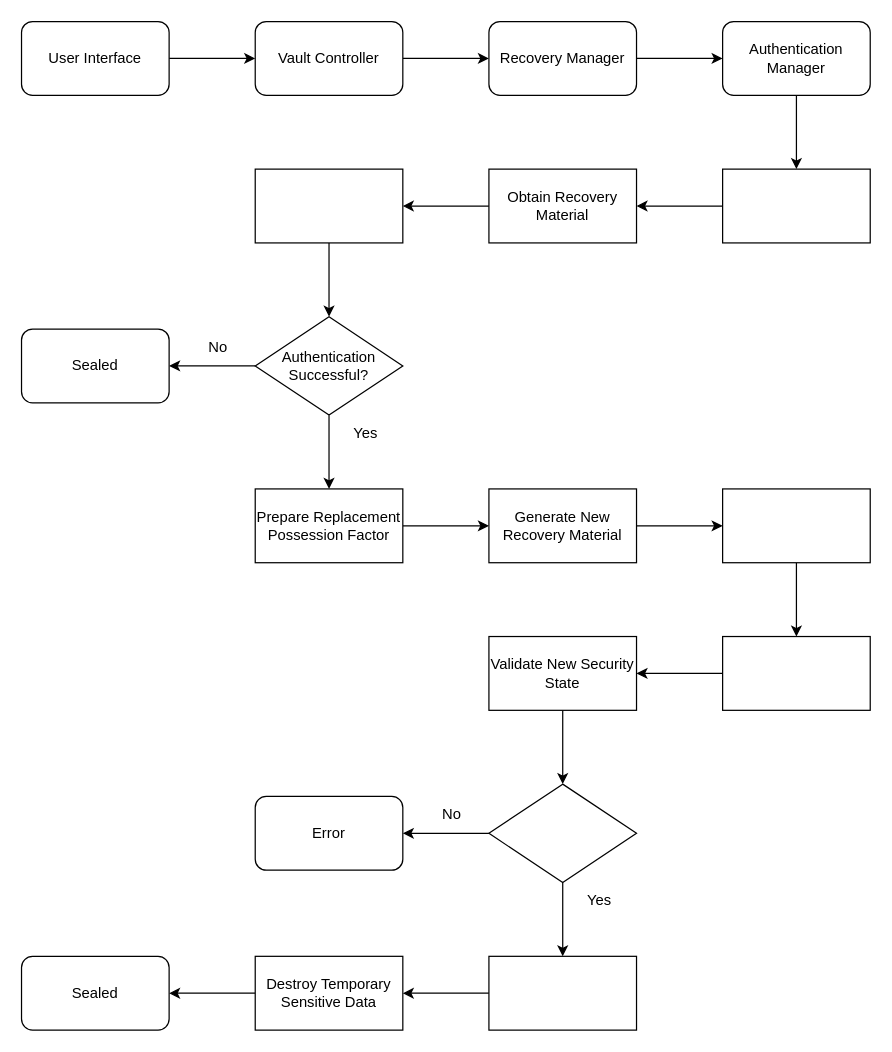
This 892x1052 diagram has some shape labels left out. The shapes that lost their labels are listed below. From the top down, each one's centre as x and y in pixels, then its label:
At pixel 328 205: "Obtain Recovery VMK Unwrap".
At pixel 795 205: "Obtain Password".
At pixel 795 525: "Prepare Next Security Generation".
At pixel 795 672: "Create new VMK Wrappers".
At pixel 562 833: "State Valid?".
At pixel 562 992: "Atomic Commit".
